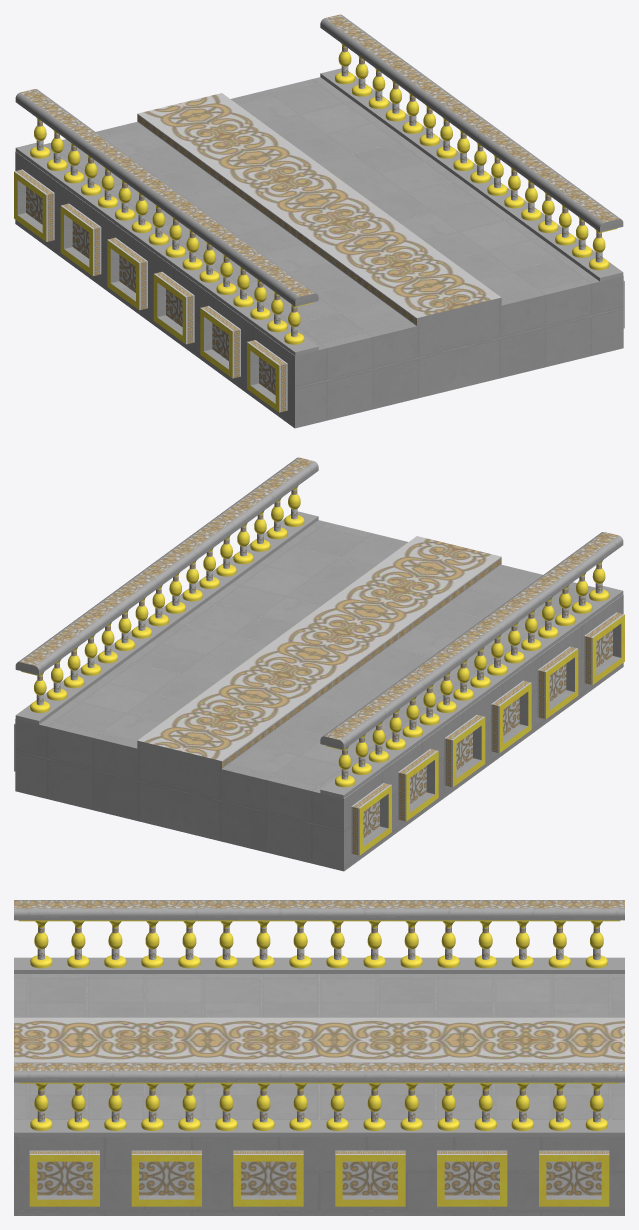
Rendered from SM_bridge_01.glb.
3 renders of one model, top to bottom at view 1: azimuth 30°, elevation 25°; view 2: azimuth 150°, elevation 25°; view 3: azimuth 270°, elevation 25°, orthographic. The views are drawn at different scales.
Visible parts, largest first — view 1: SM_bridge_01; view 2: SM_bridge_01; view 3: SM_bridge_01.
Boxes of the visible parts, <box> form: SM_bridge_01: <box>14,14,624,428</box>; SM_bridge_01: <box>14,457,624,871</box>; SM_bridge_01: <box>14,900,624,1215</box>.
Size of the model in its own units: 5 by 1.8 by 7.
Materials: 4 (4 with a texture image).
